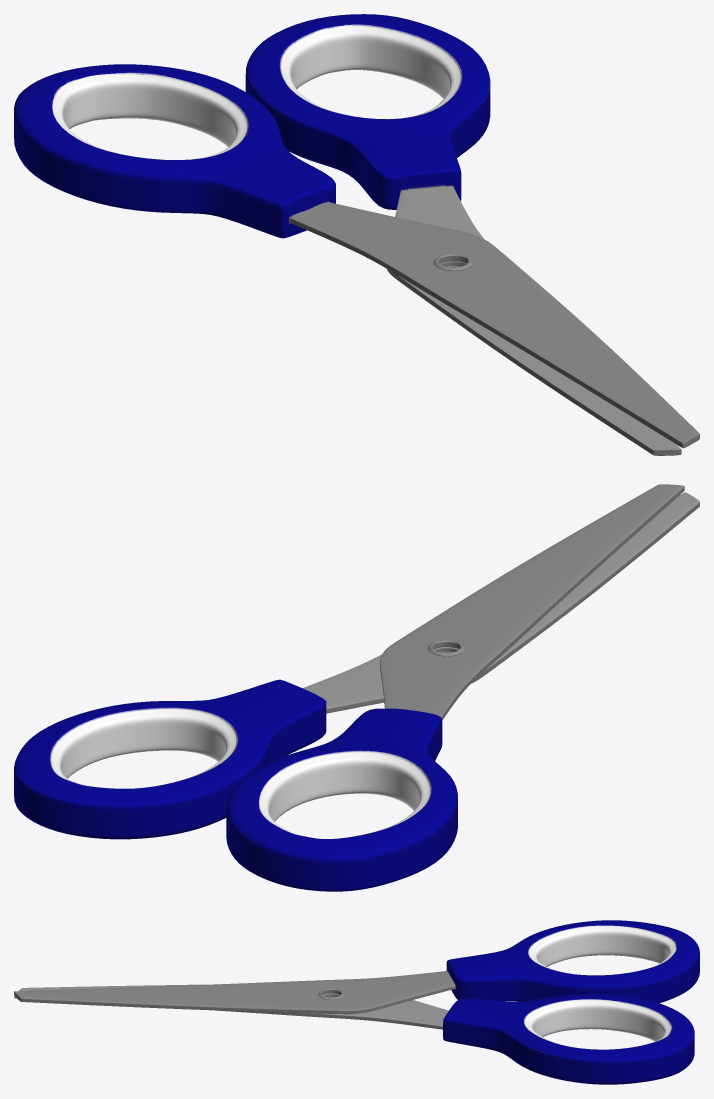
File: scissors.glb
3 views of the same model, one above another, from view 1: azimuth 30°, elevation 25°; view 2: azimuth 150°, elevation 25°; view 3: azimuth 270°, elevation 25° (orthographic). The views are drawn at different scales.
Parts seen in each view (by area): view 1: Cylinder; view 2: Cylinder; view 3: Cylinder.
Boxes of the visible parts, x1,y1,x2,y2 form: Cylinder: (14,14,699,455); Cylinder: (14,484,699,891); Cylinder: (14,920,699,1084).
Bounding box in the file's own units: 1.72 × 0.1996 × 3.61.
Materials: 1 (1 with a texture image).
